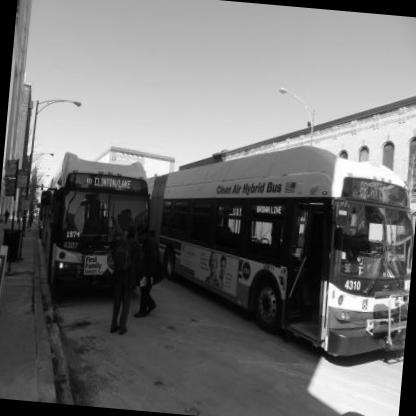bus: (150, 137, 416, 377), (18, 134, 178, 322)
